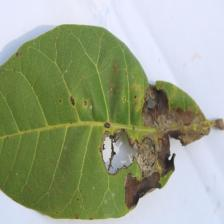leaf miner: (0, 23, 223, 220)
